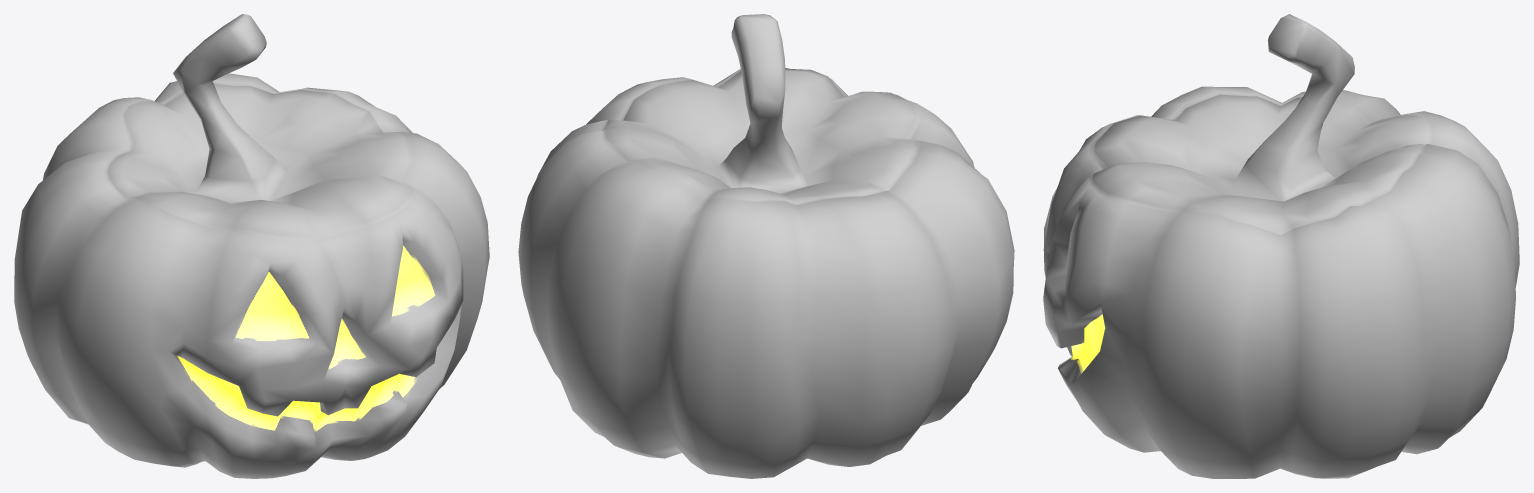
Rendered from ME_Pumpkin01.fbx.
3 renders of one model, left to right at view 1: azimuth 30°, elevation 25°; view 2: azimuth 150°, elevation 25°; view 3: azimuth 270°, elevation 25°, orthographic. The views are drawn at different scales.
Visible parts, largest first — view 1: RetopoFlow; view 2: RetopoFlow; view 3: RetopoFlow.
Part boxes in pixels (x1,y1,x2,y2): RetopoFlow: [14, 14, 489, 478]; RetopoFlow: [518, 14, 1014, 478]; RetopoFlow: [1043, 14, 1519, 478].
Bounding box in the file's own units: 1.45 × 1.31 × 1.39.
